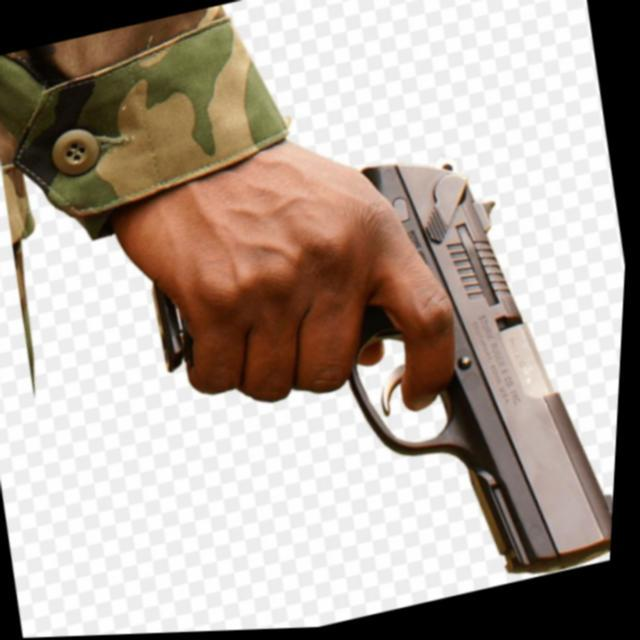weapon: (102, 88, 636, 636)
